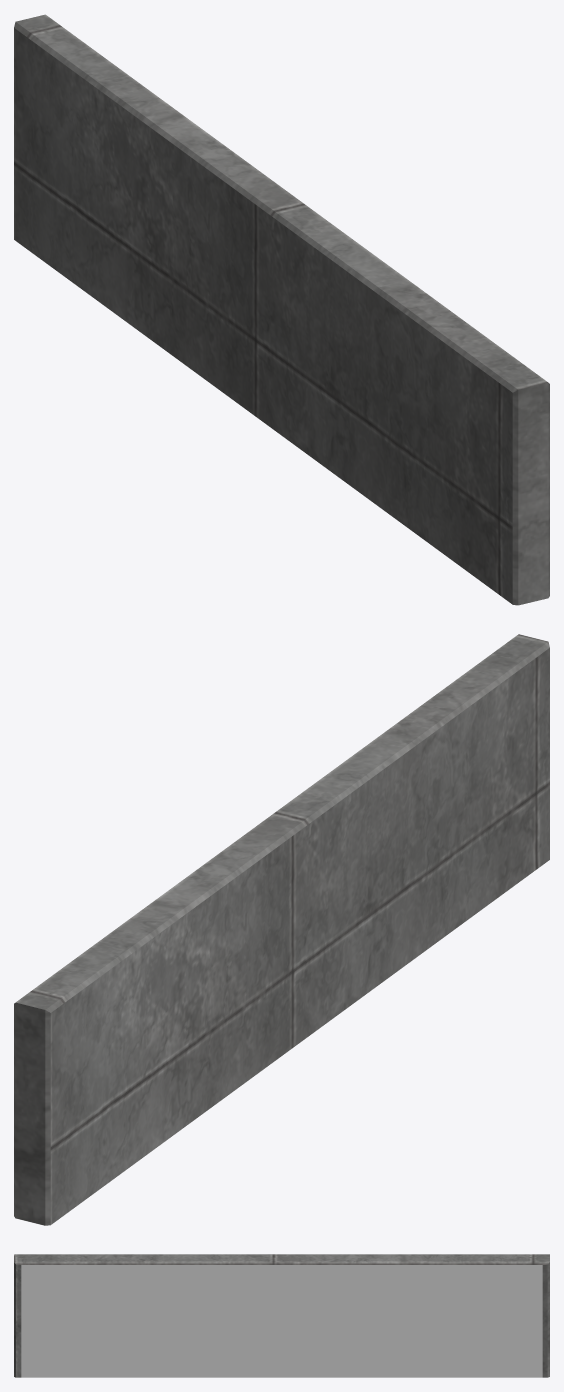
File: 101BuildingFixed2.fbx
3 views of the same model, one above another, from view 1: azimuth 30°, elevation 25°; view 2: azimuth 150°, elevation 25°; view 3: azimuth 270°, elevation 25° (orthographic). The views are drawn at different scales.
Parts seen in each view (by area): view 1: Areas:building.190; view 2: Areas:building.190; view 3: Areas:building.190.
Part boxes in pixels (x1=…): Areas:building.190: x1=14, y1=14, x2=549, y2=605; Areas:building.190: x1=14, y1=634, x2=549, y2=1225; Areas:building.190: x1=14, y1=1254, x2=549, y2=1377.
Bounding box in the file's own units: 8.71 × 48.56 × 205.
